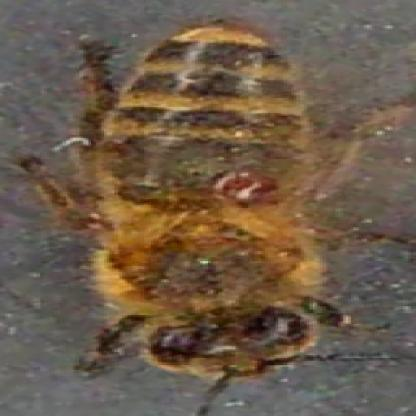bee: (101, 20, 336, 390)
vaoora: (212, 171, 278, 207)
